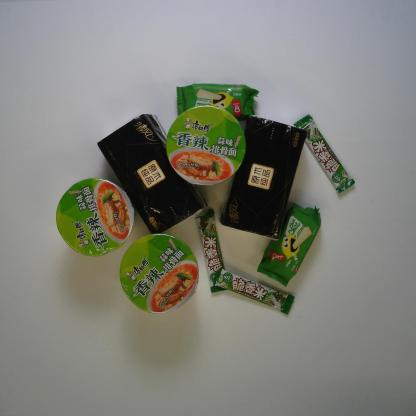Chocolate: (293, 115, 355, 196), (213, 267, 296, 315), (194, 206, 228, 294)
Dessert: (257, 200, 322, 289), (176, 82, 260, 122)
Instant Noodles: (164, 105, 248, 188), (118, 233, 200, 314), (55, 178, 136, 258)
Tissue: (96, 112, 209, 234), (218, 113, 308, 240)
